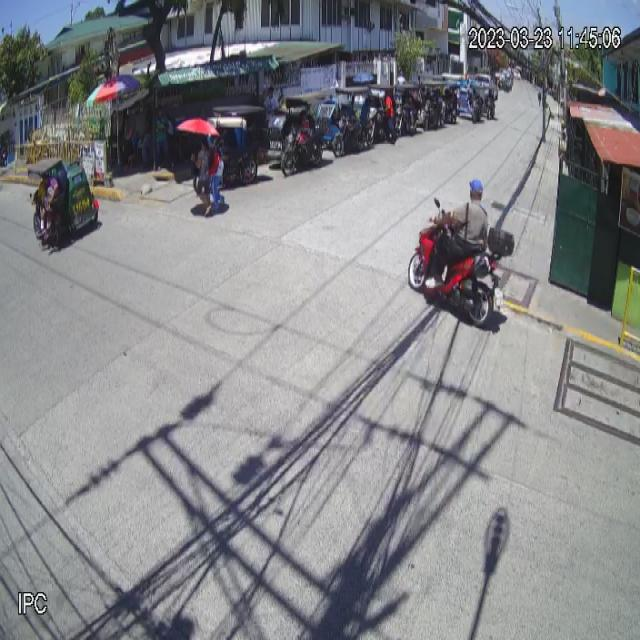Motorcycle: (407, 196, 515, 331)
Tricycle: (28, 158, 101, 247)
